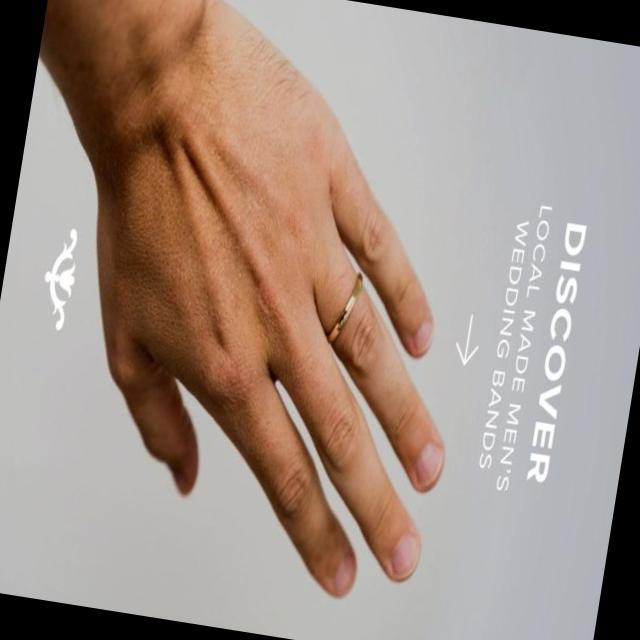Nail: (410, 439, 445, 490), (386, 534, 419, 580), (327, 557, 358, 597), (410, 320, 431, 356), (171, 463, 195, 494)
